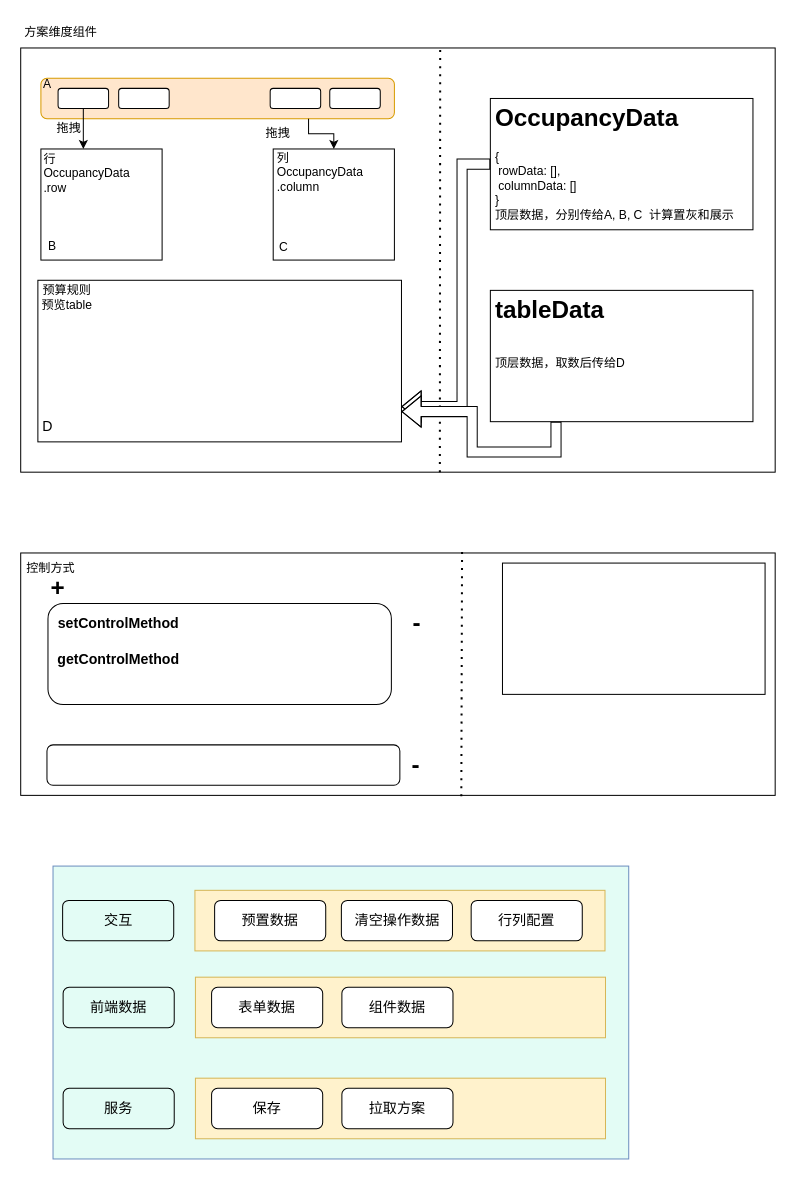
This 793x1177 diagram has some shape labels left out. Here are the shapes that lost their labels. From the top down, the box of each, then its label:
(40, 77, 394, 119): 方案维度数据源
(501, 562, 765, 694): componentsArr [A1,A2,...] push splice(index, 1) getControlMethod 遍历
